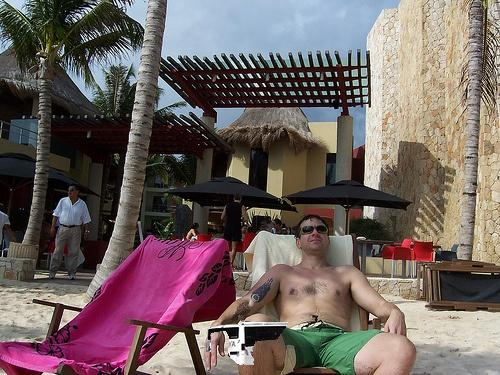tampered: (207, 322, 288, 365)
